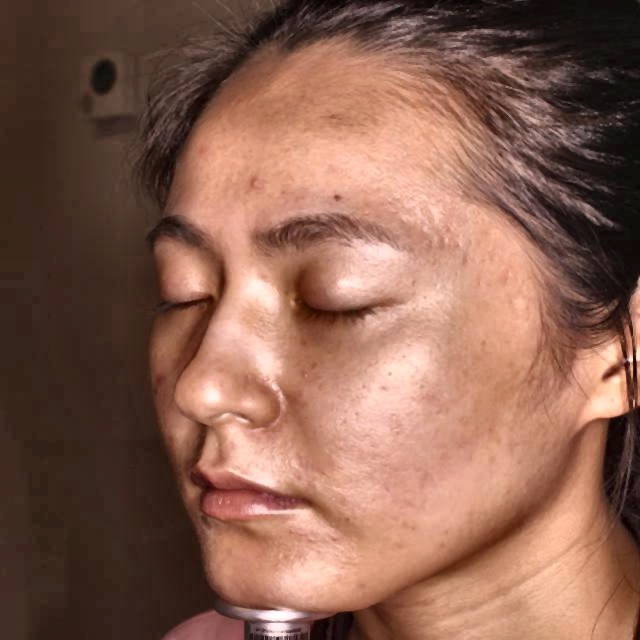comedone: (176, 142, 213, 167), (244, 172, 265, 197), (154, 368, 172, 388)
